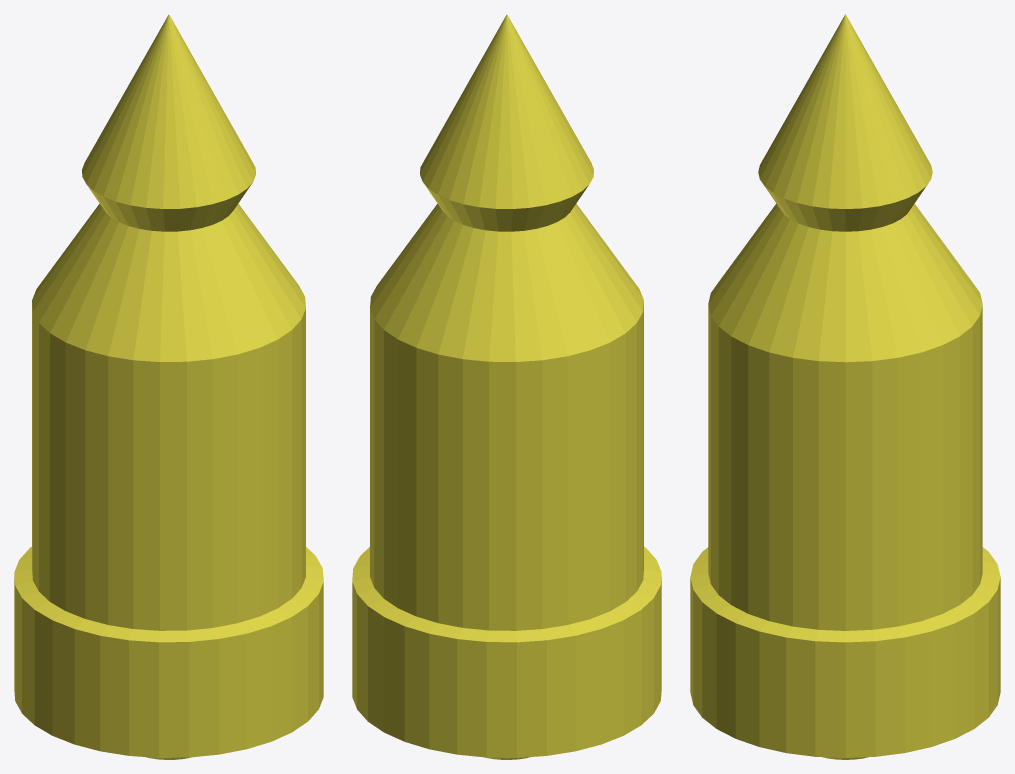
Rendered from rocket_coin.fbx.
The picture shows the model from 3 angles, left to right: view 1: azimuth 30°, elevation 25°; view 2: azimuth 150°, elevation 25°; view 3: azimuth 270°, elevation 25°; orthographic projection.
Parts seen in each view (by area): view 1: rocket coin; view 2: rocket coin; view 3: rocket coin.
Boxes of the visible parts, <box> form: rocket coin: <box>14,14,323,759</box>; rocket coin: <box>352,14,661,759</box>; rocket coin: <box>690,14,1000,759</box>.
Size of the model in its own units: 7.76 by 20.06 by 7.76.
